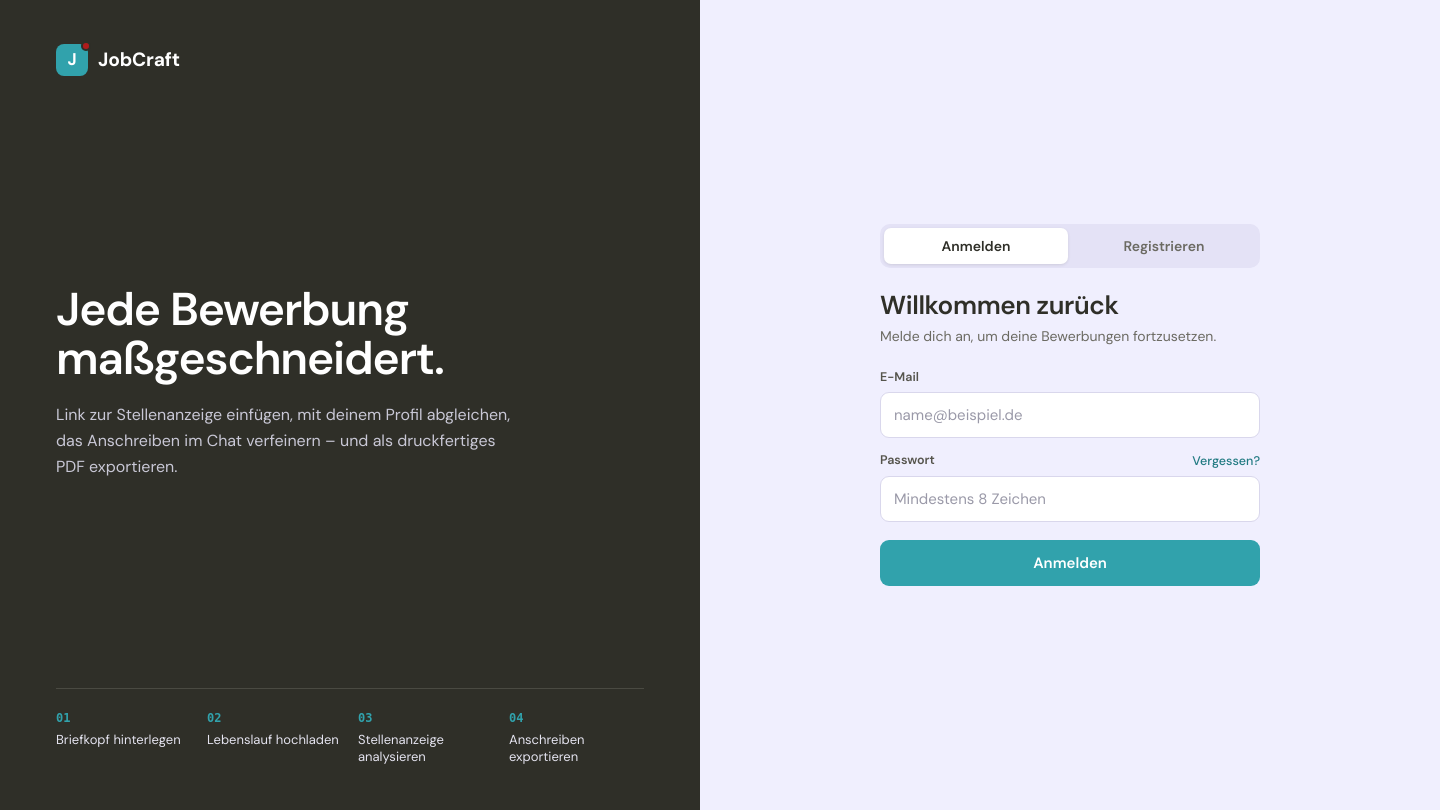
Test case: LoginComponent › shows the server error message
This screenshot has width=1440, height=810.
Type "lena@example.de" into the field named "email" at [1070, 415], box [880, 392, 1260, 438]
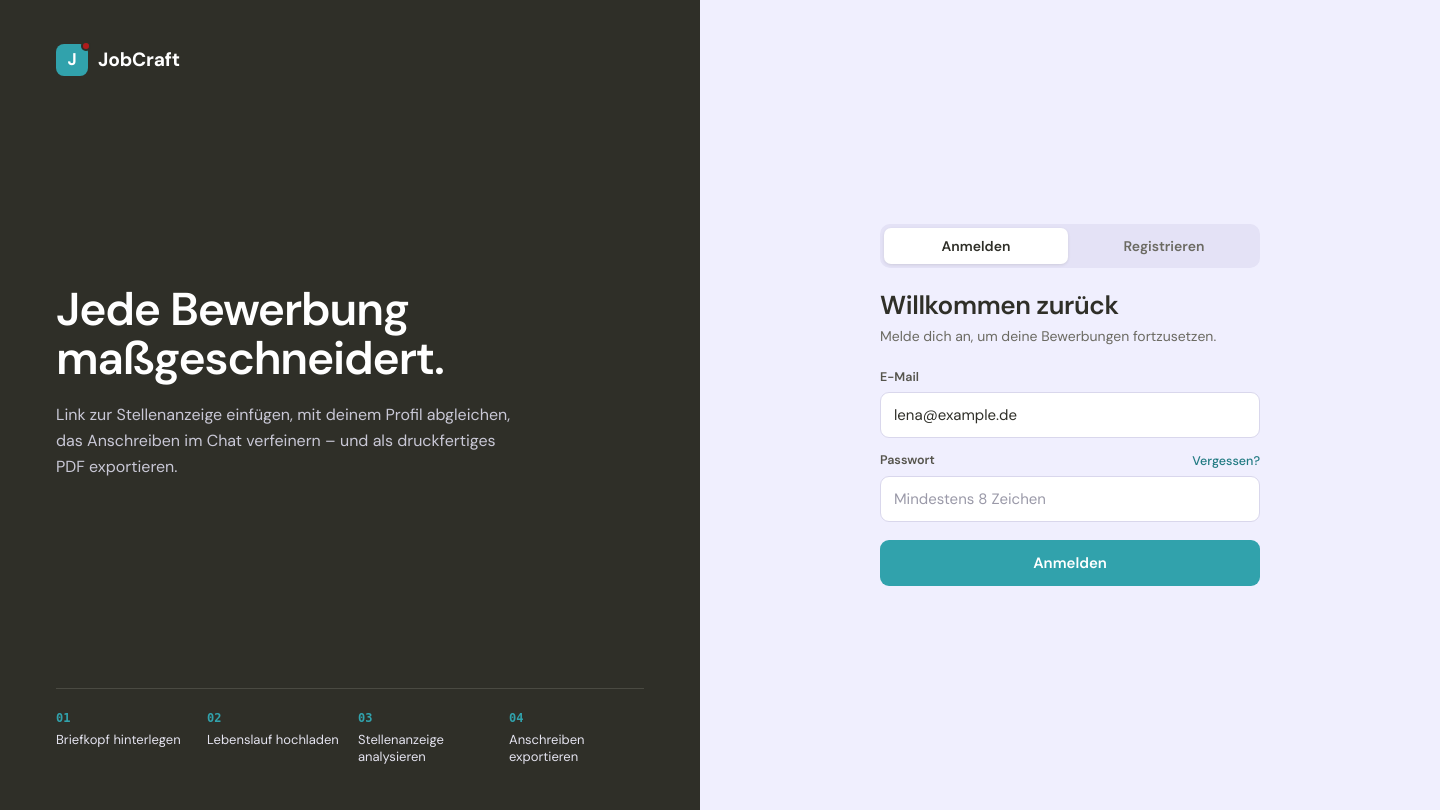
Type "falsch123" into the password field named "password" at [1070, 499], box [880, 476, 1260, 522]
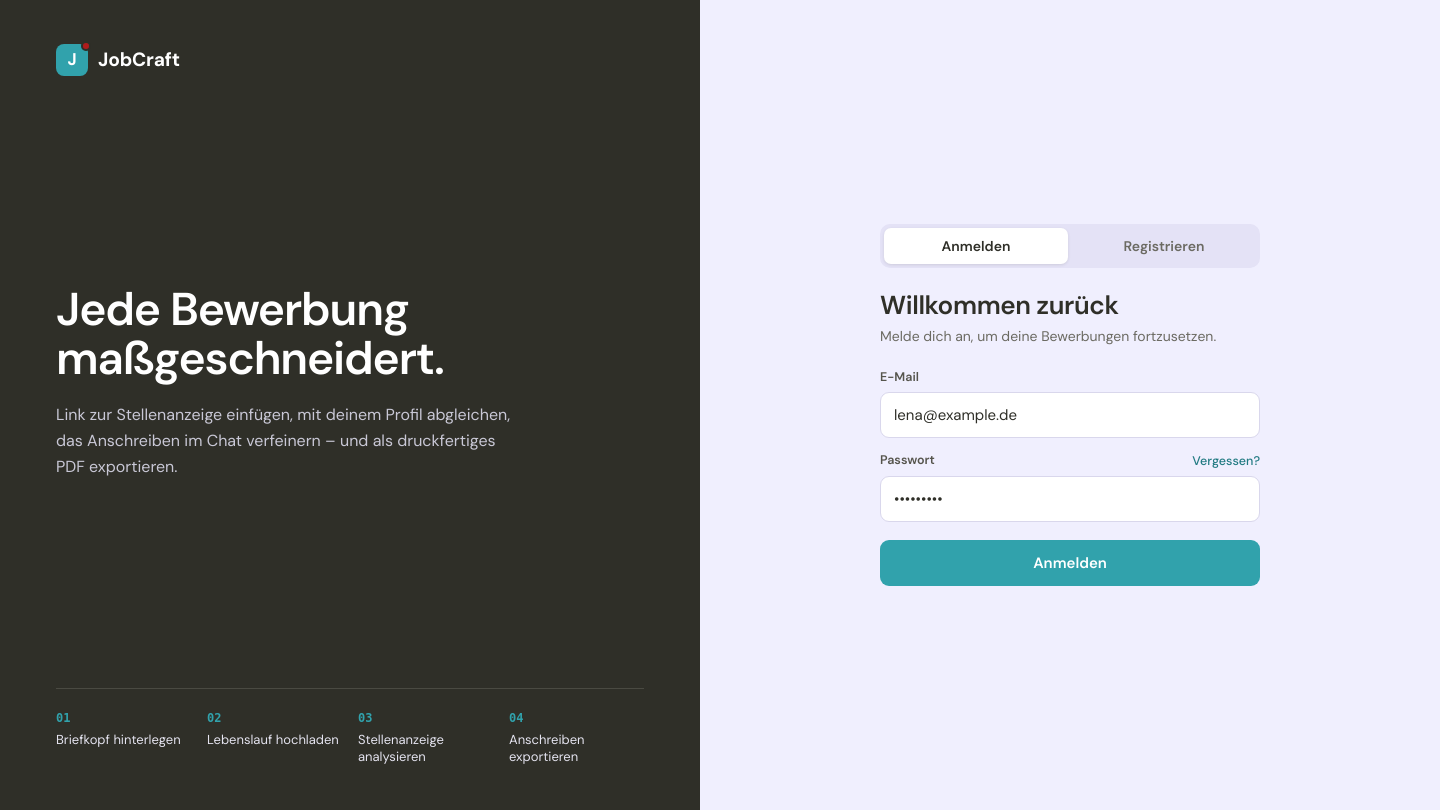
Submit the form, box [880, 224, 1260, 586]
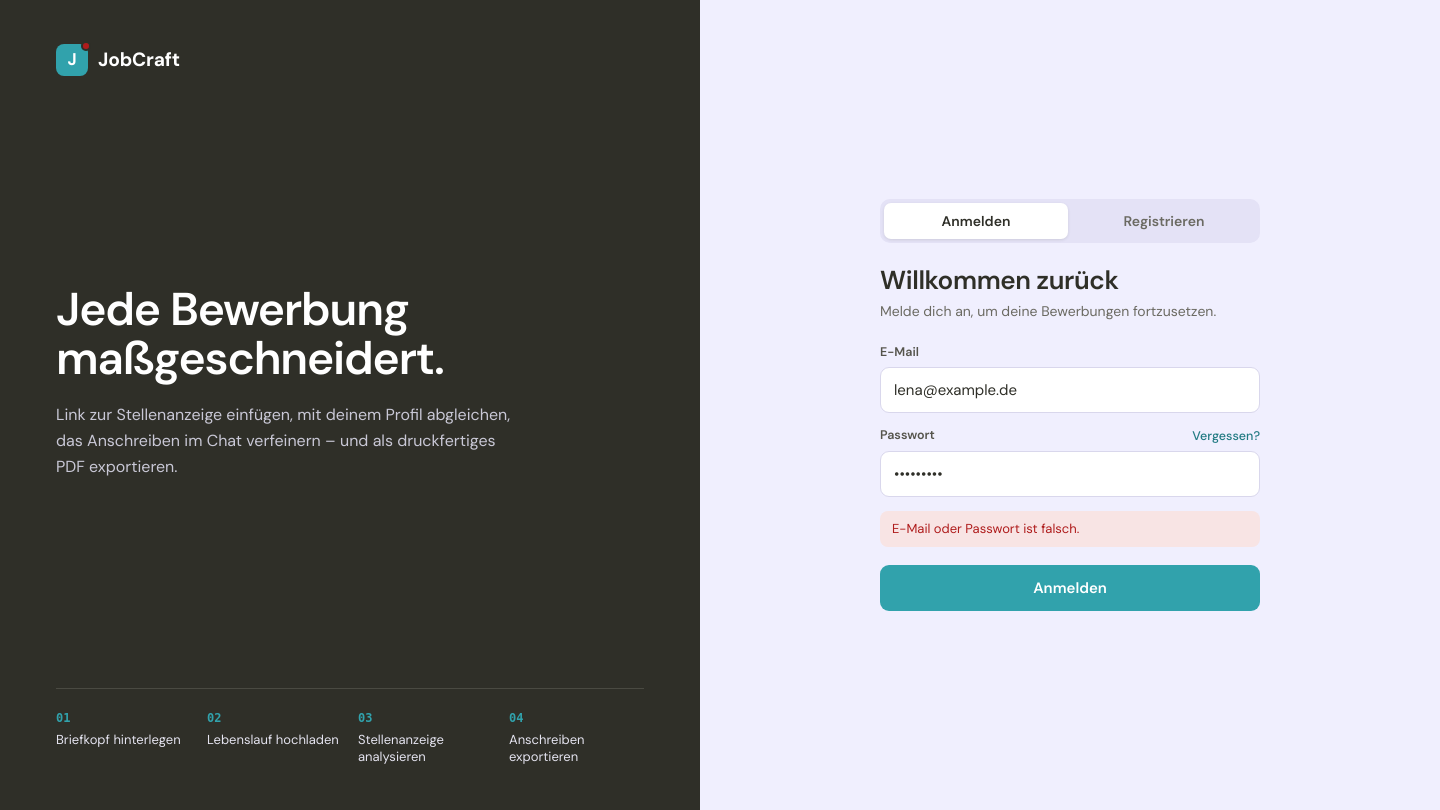
Result: the message "E-Mail oder Passwort ist falsch." is shown at [880, 511, 1260, 547]
